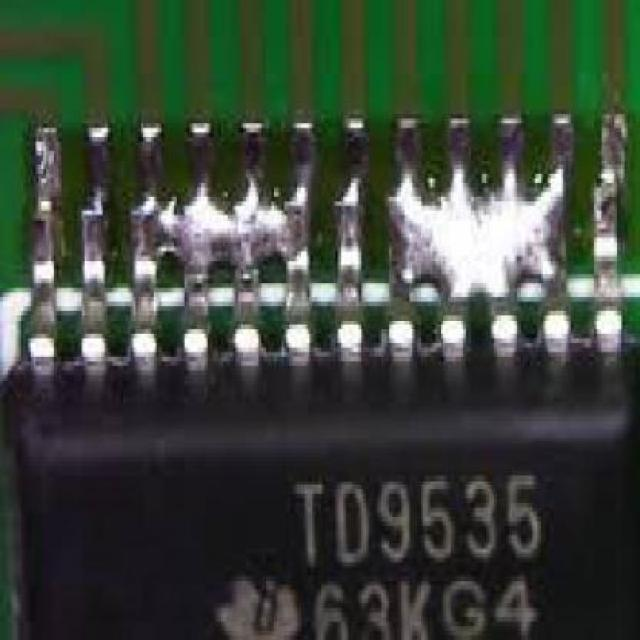Soldering shorted: (384, 142, 568, 302), (133, 142, 307, 284)
